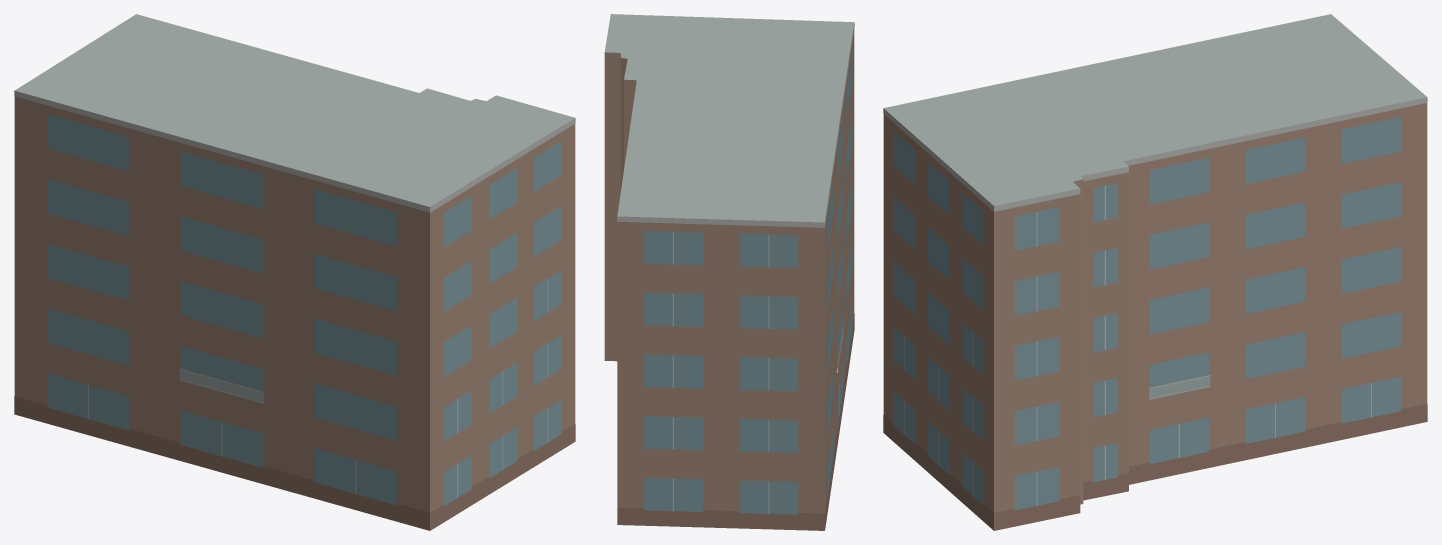
The model's file is survey-upis-32917201.glb.
3 renders of one model, left to right at view 1: azimuth 30°, elevation 25°; view 2: azimuth 150°, elevation 25°; view 3: azimuth 270°, elevation 25°, orthographic. The views are drawn at different scales.
Visible parts, largest first — view 1: survey-upis-32917201.tmp; view 2: survey-upis-32917201.tmp; view 3: survey-upis-32917201.tmp.
Part boxes in pixels (x1=…): survey-upis-32917201.tmp: x1=14, y1=14, x2=575, y2=530; survey-upis-32917201.tmp: x1=604, y1=14, x2=854, y2=530; survey-upis-32917201.tmp: x1=883, y1=14, x2=1427, y2=530.
Bounding box in the file's own units: 17.91 × 14.1 × 21.42.
